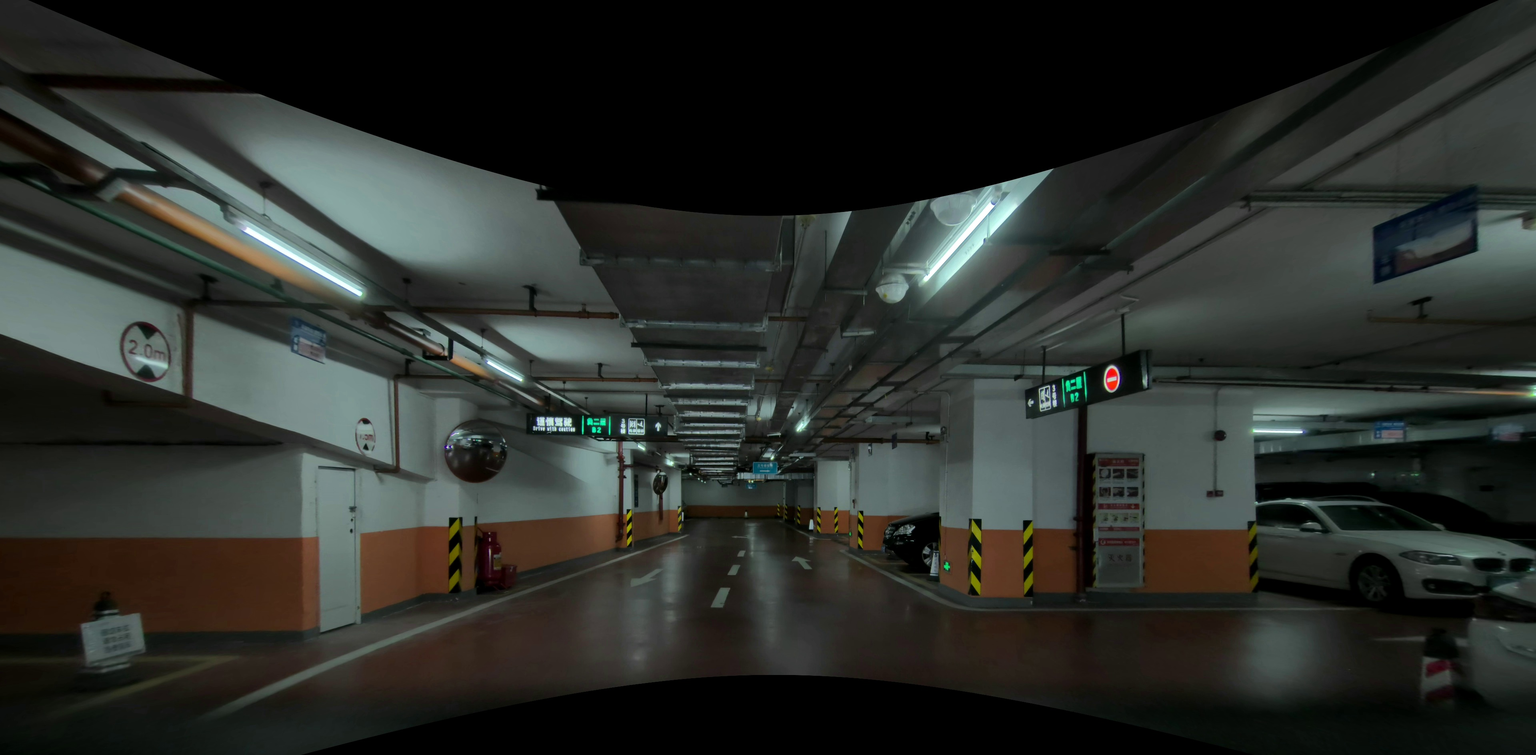2.0m: (121, 338, 166, 366)
3号梯: (618, 419, 626, 435)
3号楼: (1052, 382, 1058, 408)
B2: (1067, 393, 1080, 402), (588, 425, 604, 432)
Drive with caution: (531, 425, 576, 433)
elevators: (629, 419, 636, 427)
exits: (942, 561, 950, 572)
上: (791, 553, 814, 572), (654, 421, 662, 432)
下: (624, 568, 666, 586)
右: (758, 469, 770, 473)
左: (1026, 397, 1034, 407)
左上: (733, 532, 754, 541)
禁止通行: (1102, 366, 1121, 393)
谨慎驾驶: (534, 415, 575, 425)
负二层: (1064, 375, 1083, 389), (584, 417, 608, 425)
